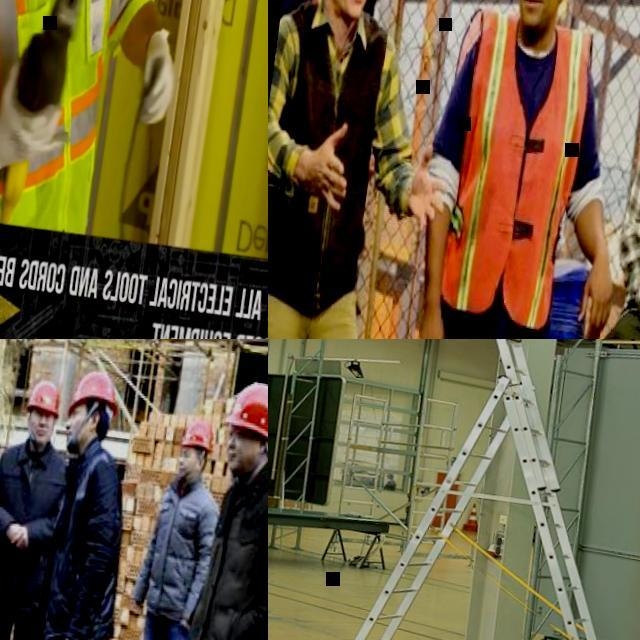helmet: (220, 378, 268, 445), (66, 368, 122, 424), (24, 377, 64, 422), (178, 414, 218, 454)
vest: (424, 2, 603, 318), (0, 0, 174, 242)
